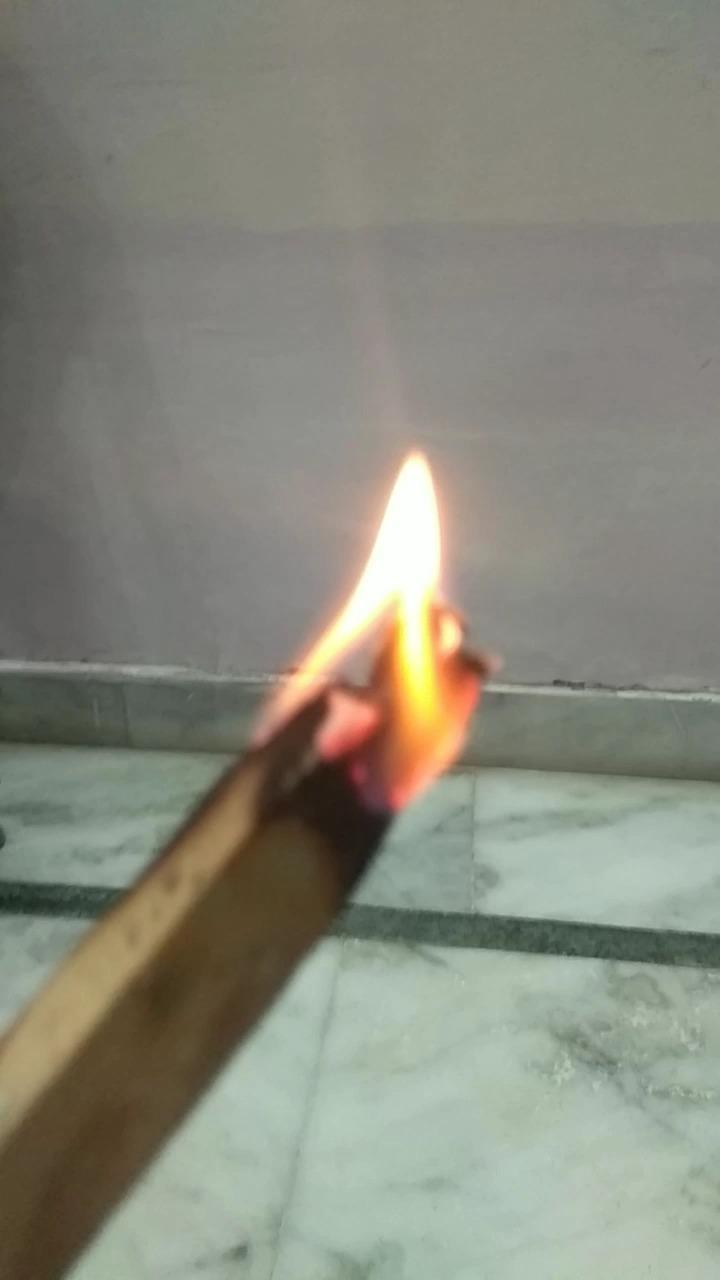fire: (253, 439, 507, 809)
